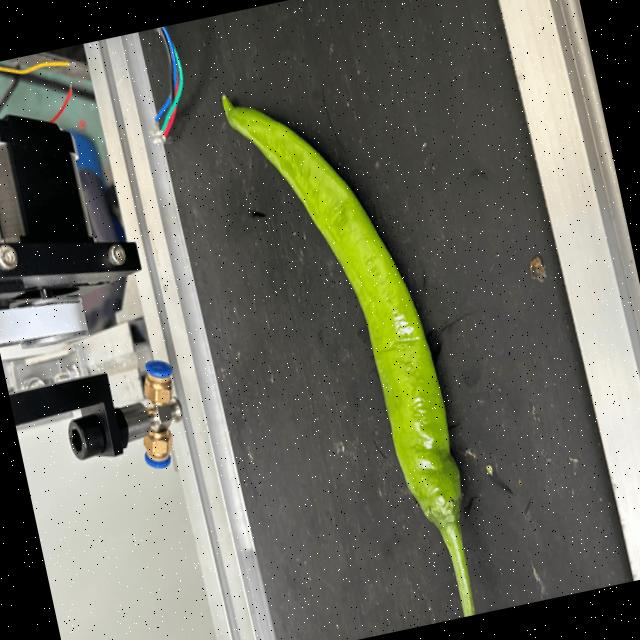chili: (221, 90, 463, 534)
